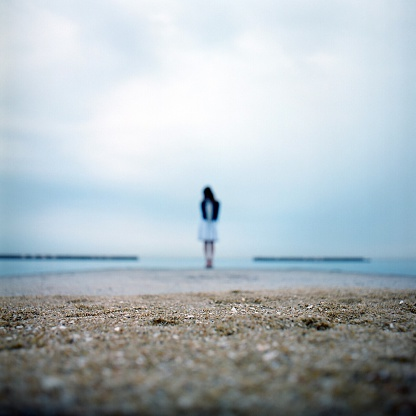em pe: (197, 189, 218, 273)
